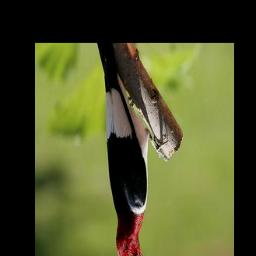Woodpecker: (95, 44, 157, 256)
